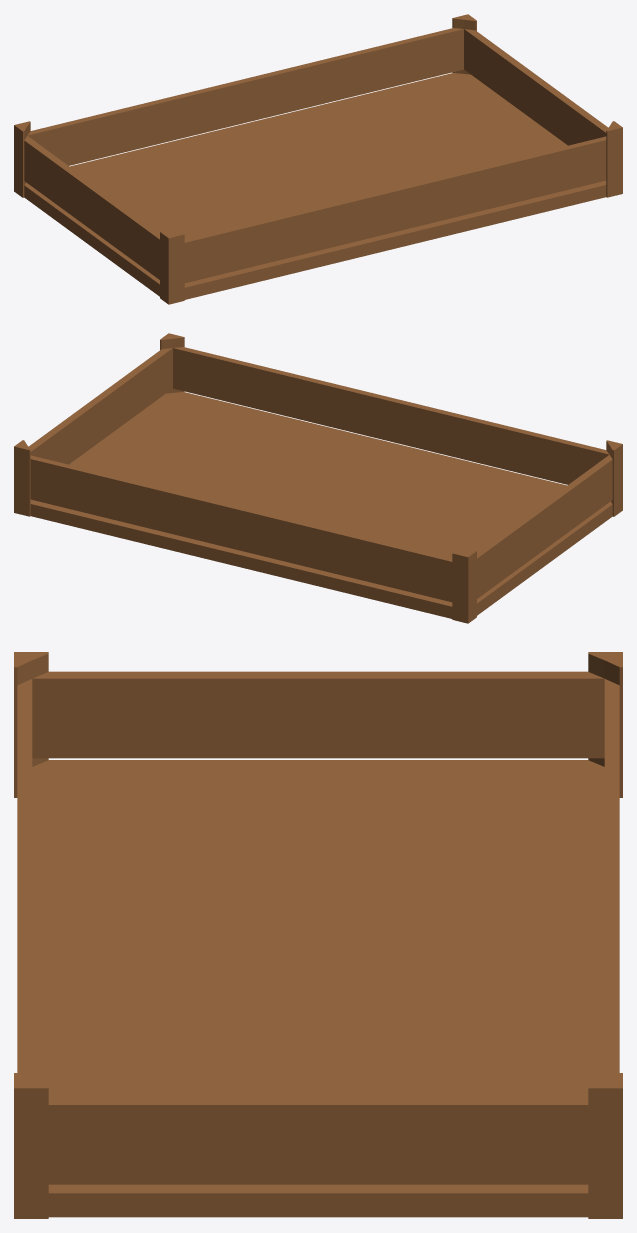
The model's file is Crate1.fbx.
The picture shows the model from 3 angles, top to bottom: view 1: azimuth 30°, elevation 25°; view 2: azimuth 150°, elevation 25°; view 3: azimuth 270°, elevation 25°; orthographic projection. The views are drawn at different scales.
Parts seen in each view (by area): view 1: Cube.203; view 2: Cube.203; view 3: Cube.203.
Part boxes in pixels (x1,y1,x2,y2): Cube.203: [14, 14, 622, 304]; Cube.203: [14, 333, 622, 623]; Cube.203: [14, 652, 622, 1218].
Size of the model in its own units: 333 by 46.49 by 196.
